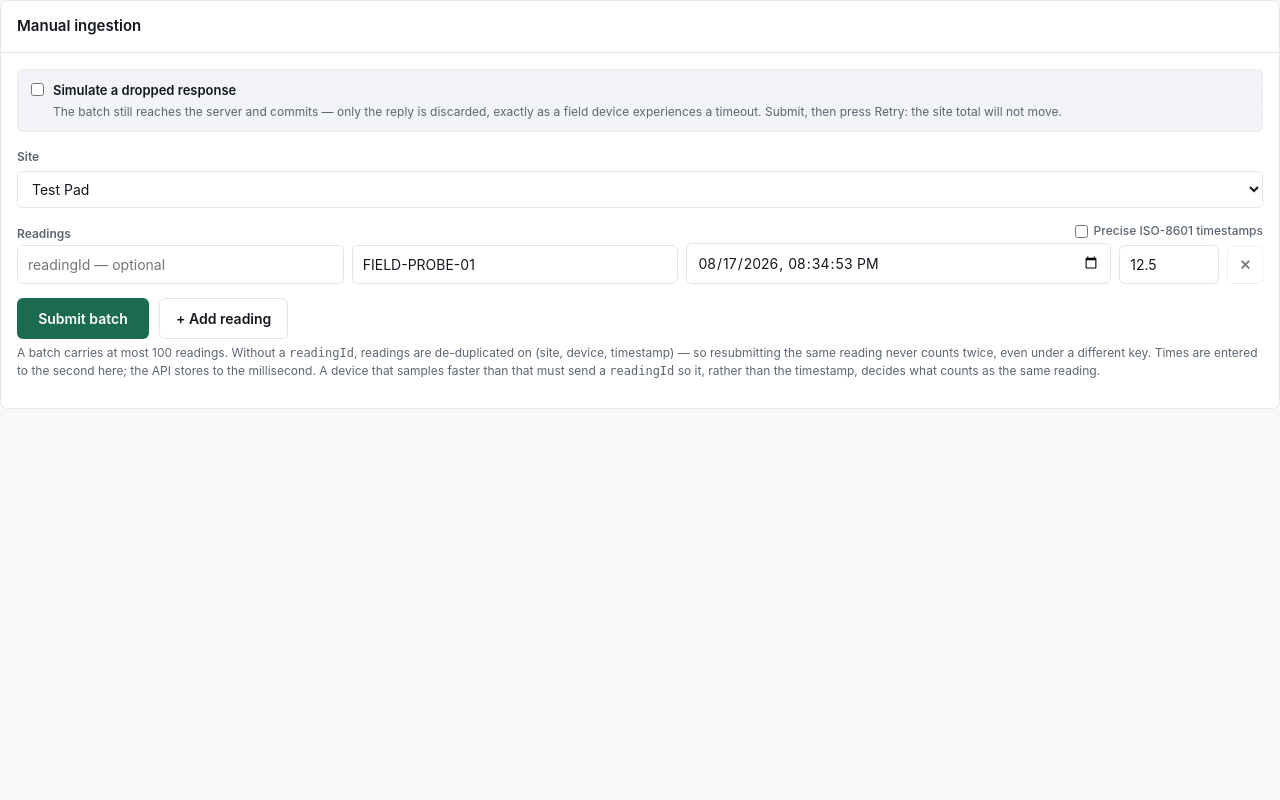
Scenario: IngestForm › surfaces a reading that collided with a different mass
This screenshot has width=1280, height=800.
Click the button "Submit batch" at (83, 318), box [17,298,149,339]
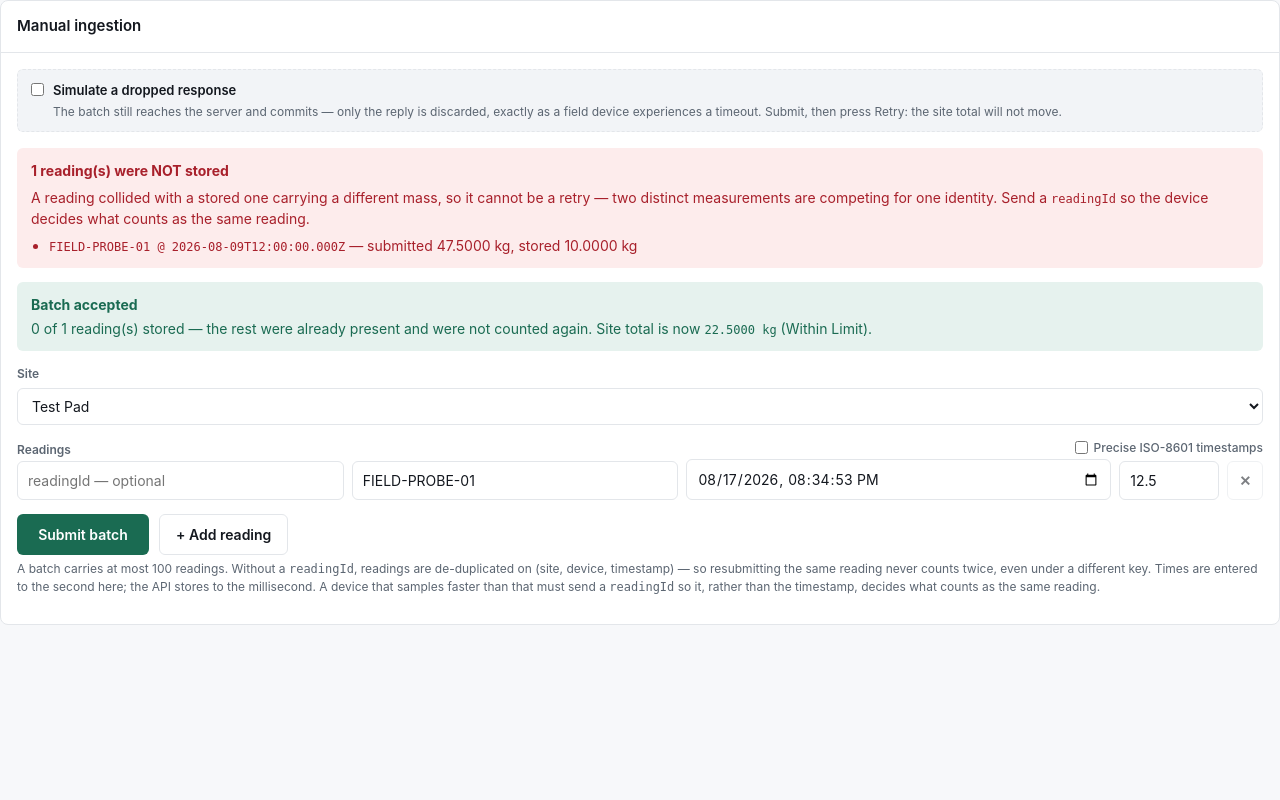
expect the text "1 reading(s) were NOT stored" is shown: met, box [31,162,229,179]
expect the list item "submitted 47.5000 kg, stored 10.0000 kg" is shown: met, box [49,237,638,254]
